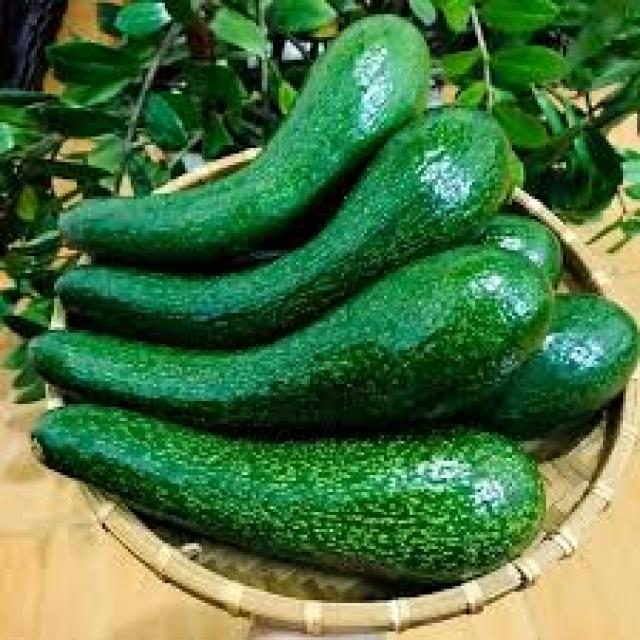Bo: (21, 96, 525, 346), (40, 1, 455, 260), (4, 237, 581, 422), (15, 404, 564, 584)
